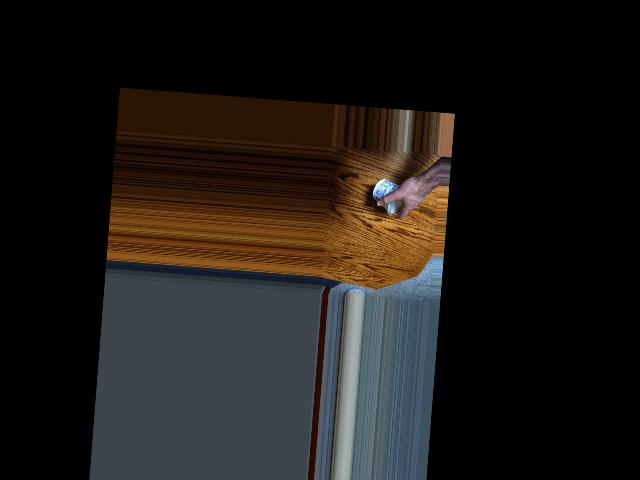cotage: (370, 174, 404, 215)
